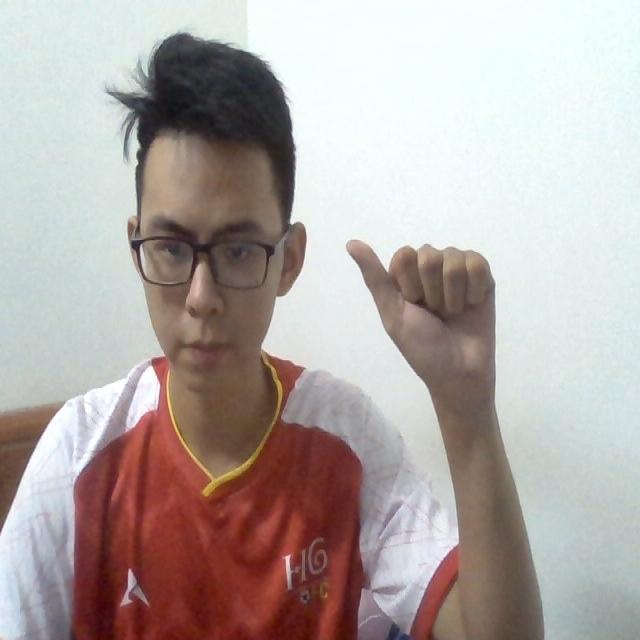A: (336, 237, 503, 387)
